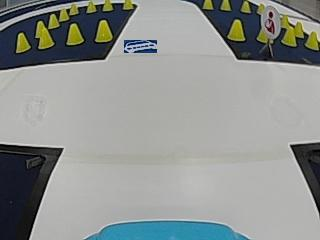cone: (66, 23, 84, 46), (36, 24, 53, 48), (227, 19, 245, 41), (95, 20, 112, 42), (15, 32, 31, 52), (305, 30, 319, 50), (282, 26, 296, 46), (48, 13, 60, 28), (59, 7, 69, 21), (102, 0, 113, 12), (85, 1, 96, 13), (240, 1, 251, 13), (220, 0, 231, 11), (202, 0, 214, 10), (69, 3, 79, 15), (122, 0, 133, 10)
patient: (263, 5, 279, 37)
